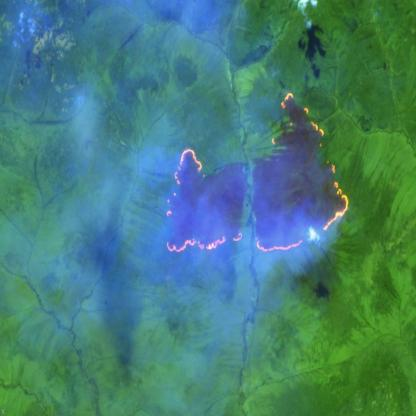fire: (163, 90, 349, 257)
